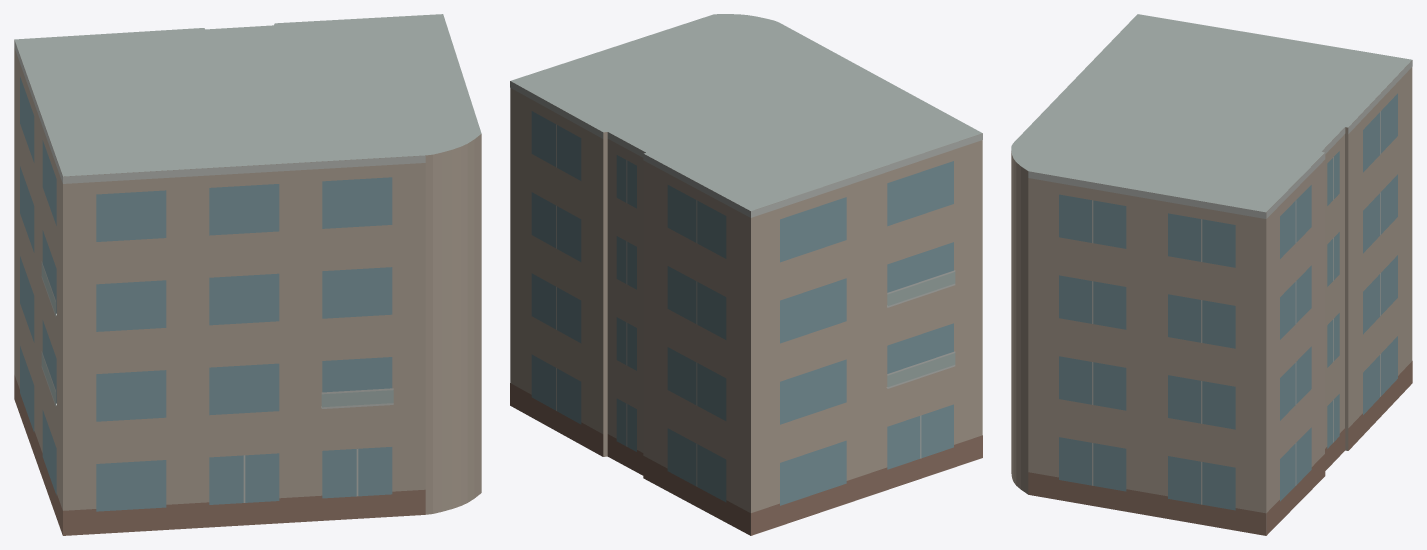
The model's file is survey-upis-32491781.glb.
3 views of the same model, side by side, from view 1: azimuth 30°, elevation 25°; view 2: azimuth 150°, elevation 25°; view 3: azimuth 270°, elevation 25° (orthographic). The views are drawn at different scales.
Visible parts, largest first — view 1: survey-upis-32491781.tmp; view 2: survey-upis-32491781.tmp; view 3: survey-upis-32491781.tmp.
Part boxes in pixels (x1,y1,x2,y2): survey-upis-32491781.tmp: (14,14,481,535); survey-upis-32491781.tmp: (510,14,982,535); survey-upis-32491781.tmp: (1011,14,1412,535).
Bounding box in the file's own units: 15.4 × 11.7 × 13.15.
